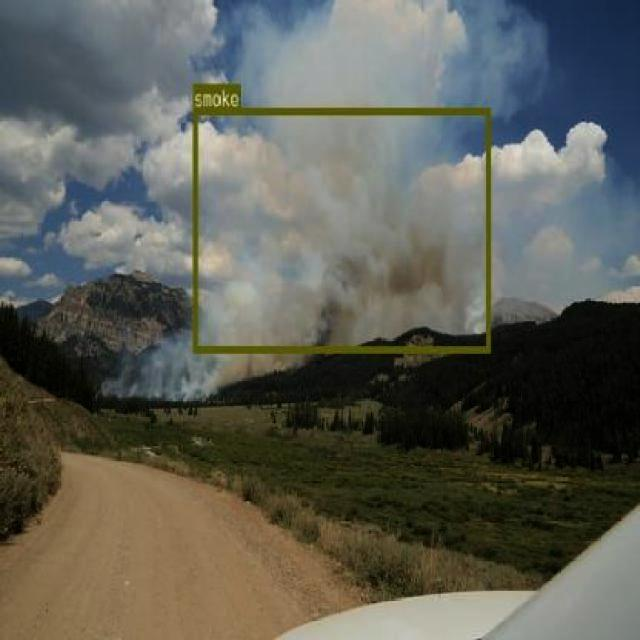smoke: (193, 106, 489, 351)
